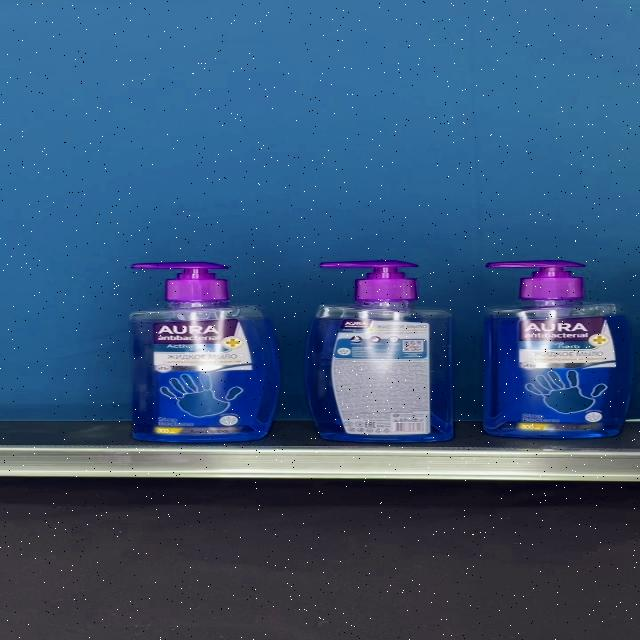Bottle: (128, 260, 280, 441), (305, 259, 453, 443), (483, 260, 635, 438)
Cap: (321, 259, 419, 301), (484, 260, 585, 300), (130, 260, 228, 300)
